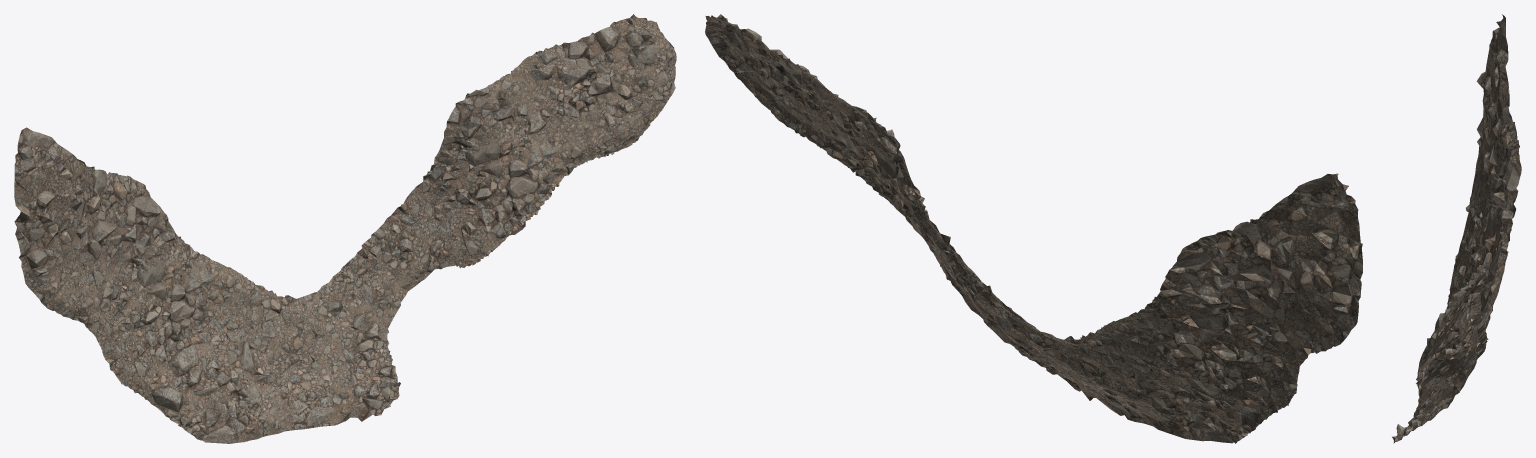
3 views of the same model, side by side, from view 1: azimuth 30°, elevation 25°; view 2: azimuth 150°, elevation 25°; view 3: azimuth 270°, elevation 25° (orthographic). The views are drawn at different scales.
Size of the model in its own units: 77.57 by 37.69 by 14.87.
1 material, 1 textured.
